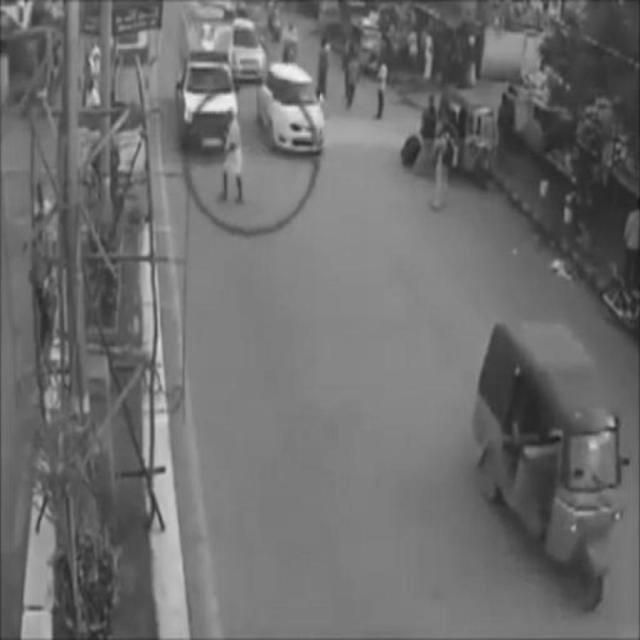person: (220, 112, 246, 204), (433, 125, 453, 209), (313, 40, 333, 101), (374, 57, 389, 121), (345, 51, 360, 108)
vehicle: (468, 312, 626, 612), (442, 88, 498, 196), (259, 66, 327, 154), (181, 51, 241, 149)
